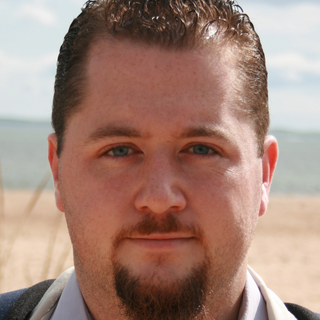eye: (172, 132, 231, 172), (88, 132, 148, 167)
